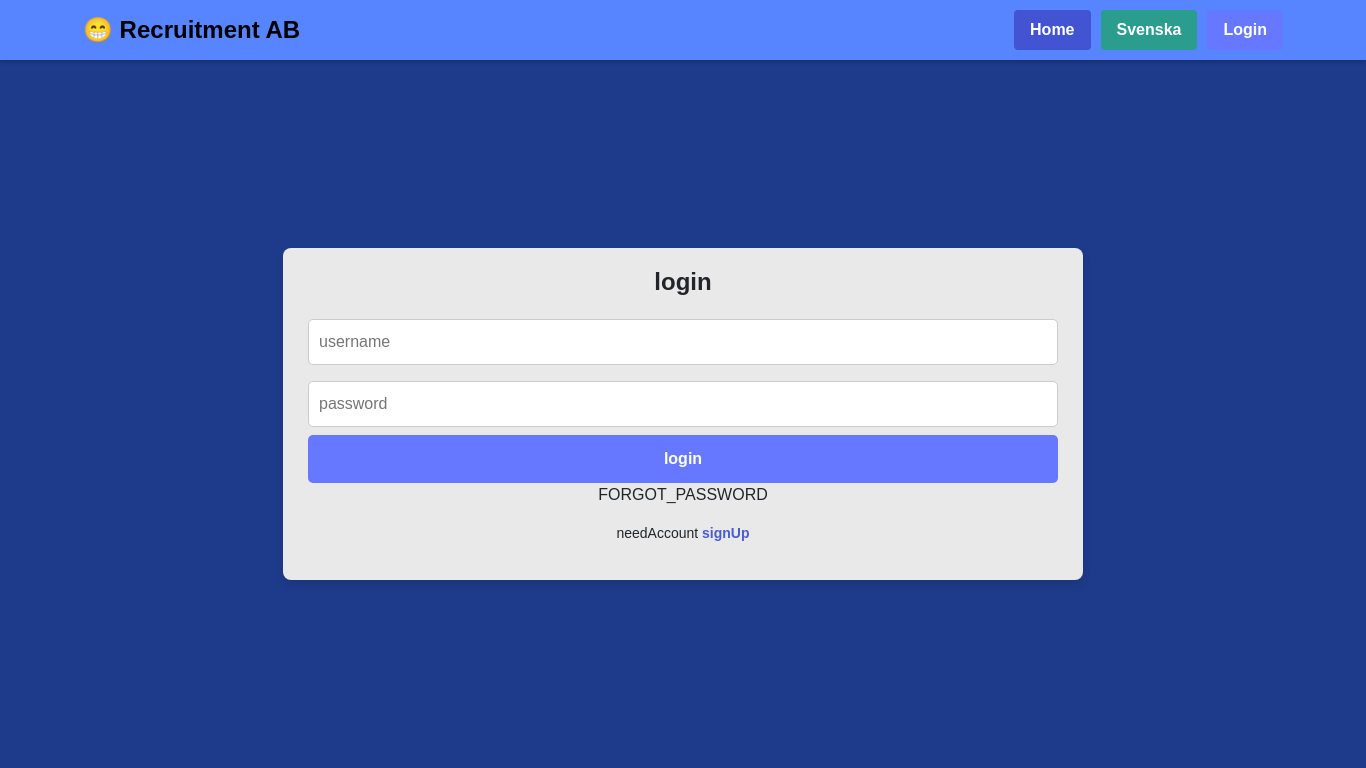
it: LoginView › shows error message when validation fails with invalid inputs
Type "abc" into the field with placeholder "username" at [683, 342], box [308, 319, 1058, 365]
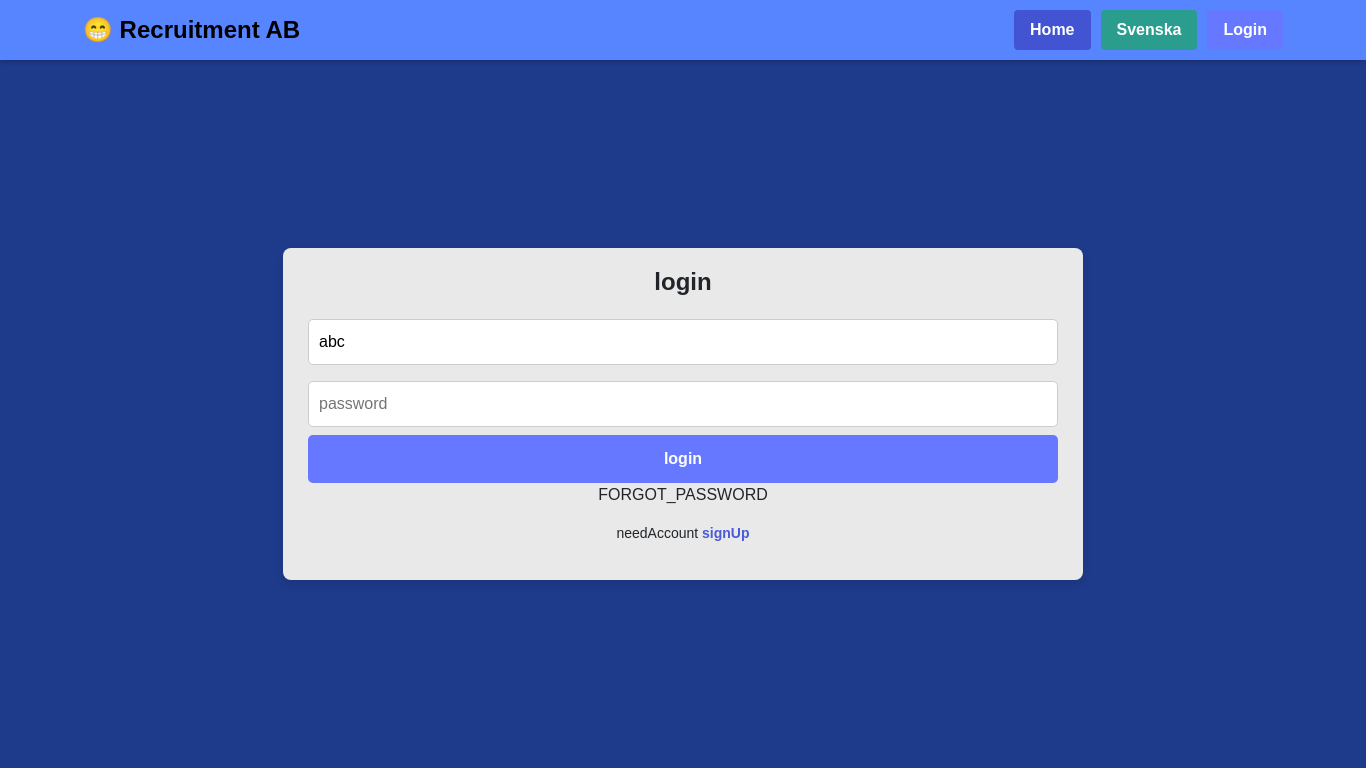
Type "123" into the password field with placeholder "password" at [683, 404], box [308, 381, 1058, 427]
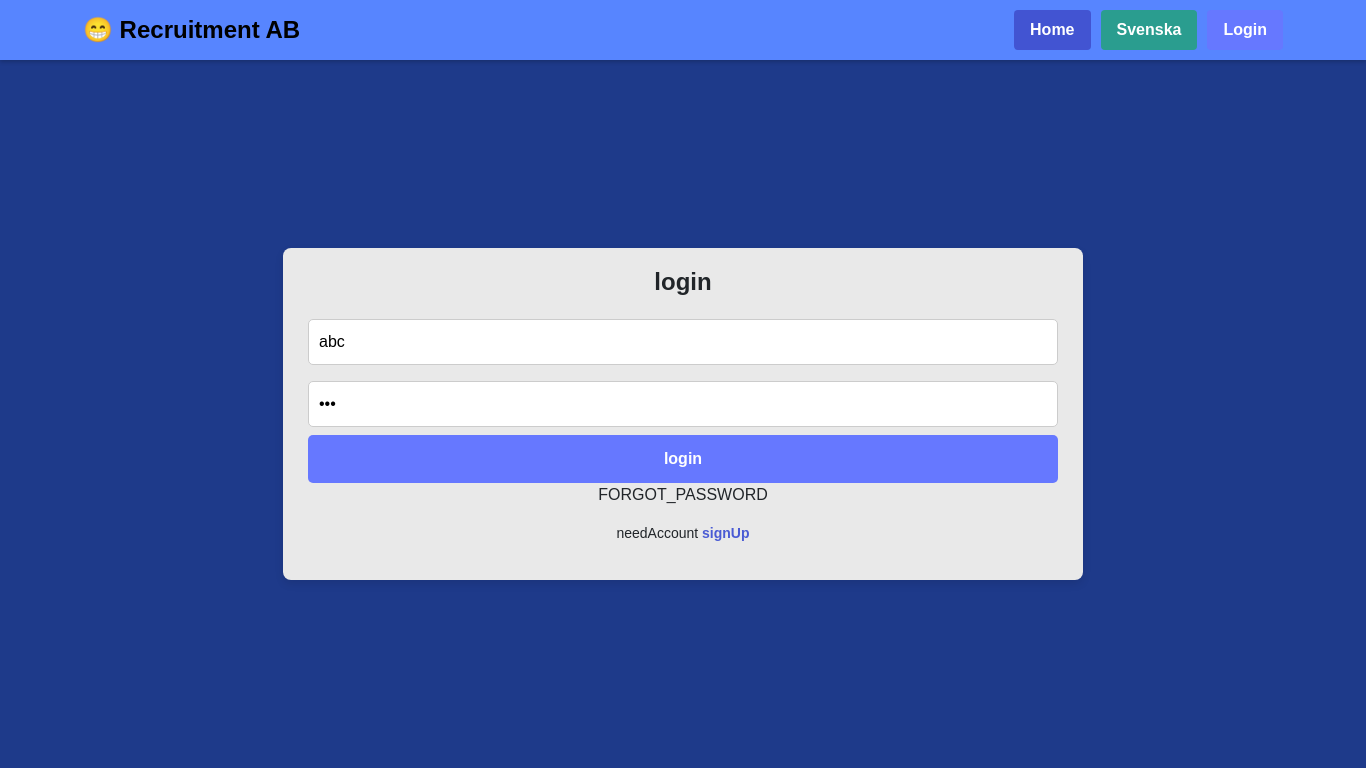
Click the button with test id "login-button" at [683, 459], box [308, 435, 1058, 483]
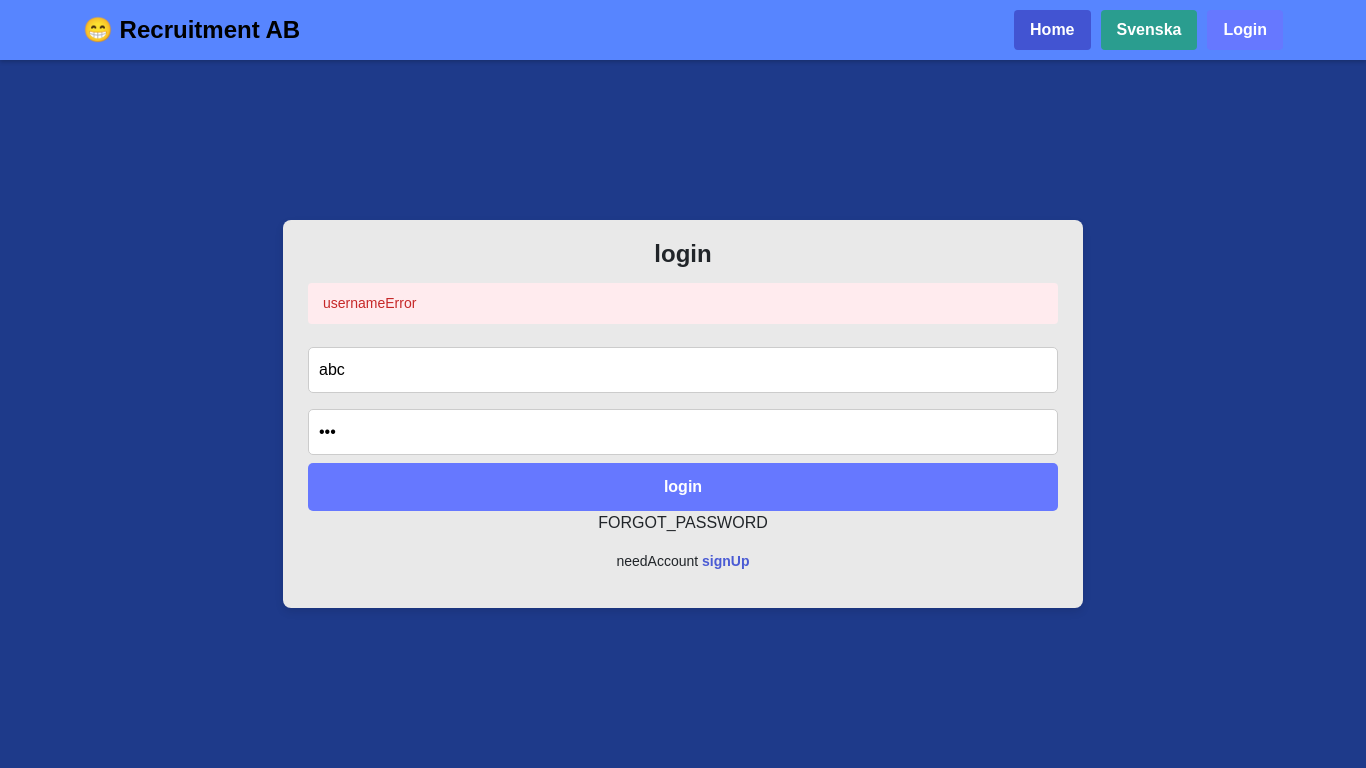
Check: the text "usernameError" is shown, box [308, 283, 1058, 324]
